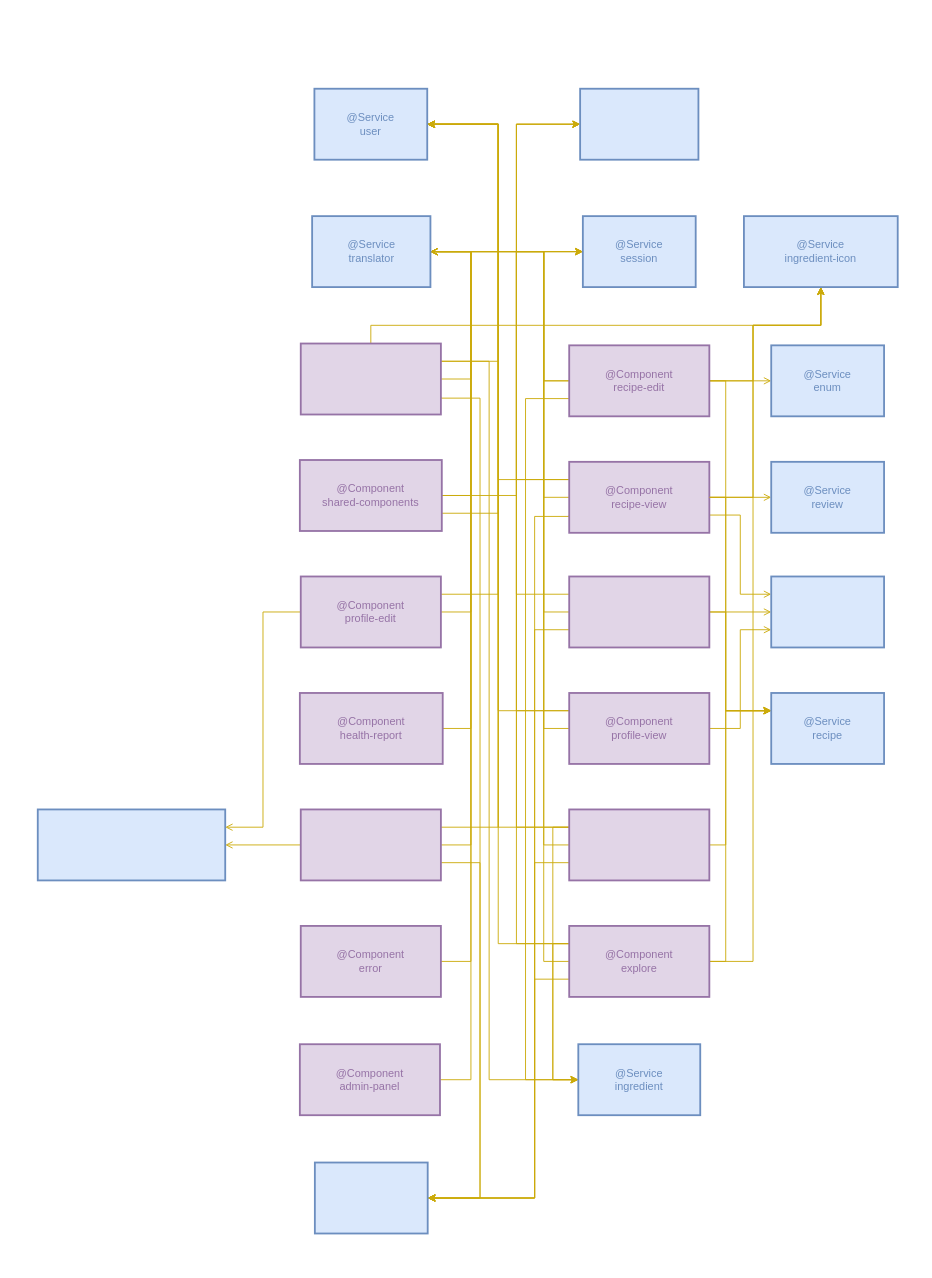
Some shapes in this 932 by 1278 pixel diagram are drawn without their labels. Each missing label, with the box of its shape:
@Component auth: (299, 808, 441, 881)
@Component home: (568, 575, 710, 648)
@Component ingredients: (299, 342, 441, 415)
@Component navbar: (568, 808, 710, 881)
@Service activity: (770, 575, 885, 648)
@Service recipe-collection: (579, 87, 699, 160)
@Service theme: (313, 1161, 428, 1234)
@Service username-validation: (36, 808, 226, 881)
